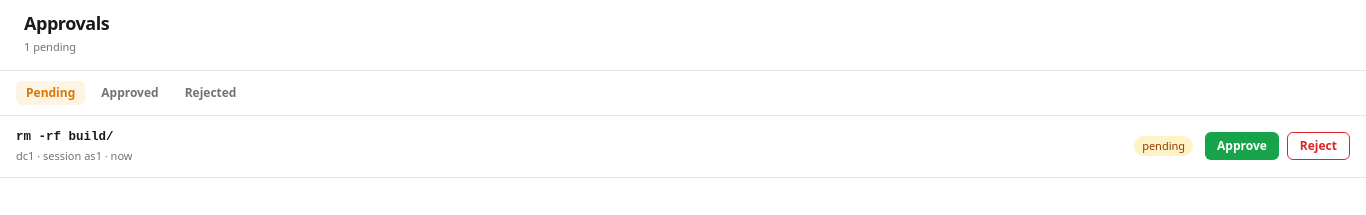
it: Approvals action errors › shows the stale error and removes controls on a 409 not-pending
Expected: the text "rm -rf build/" is shown, [16,130,114,144]
Click the button "Approve".
click(1242, 146)  # box [1205,132,1279,160]
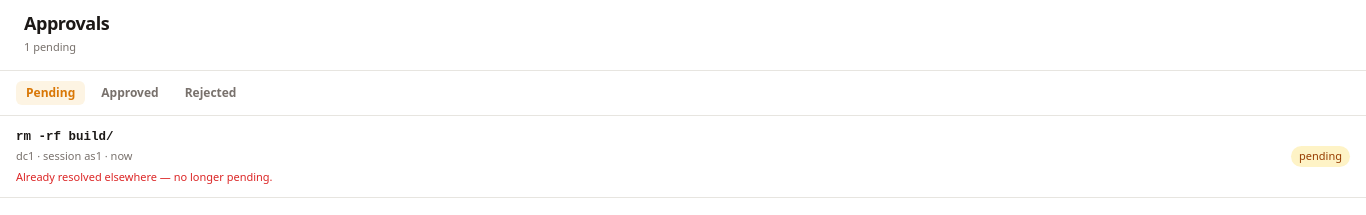
Expected: the text "Already resolved elsewhere — no longer pending." is shown, [16,169,273,184]
